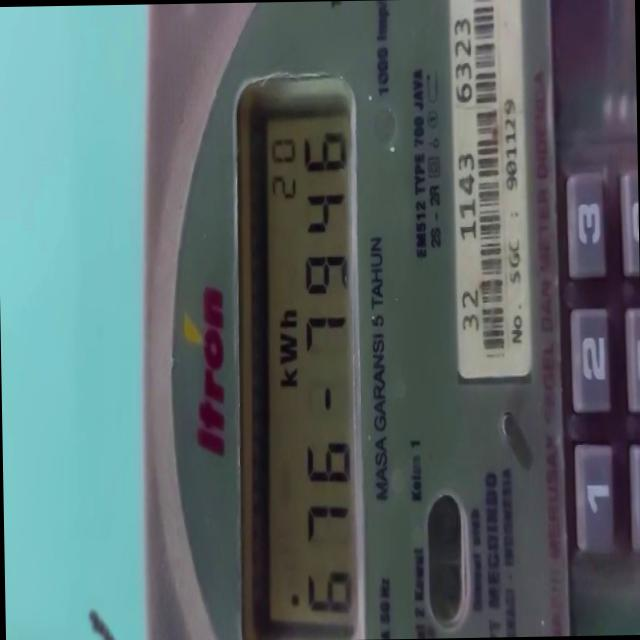LCD: (232, 58, 370, 640)
